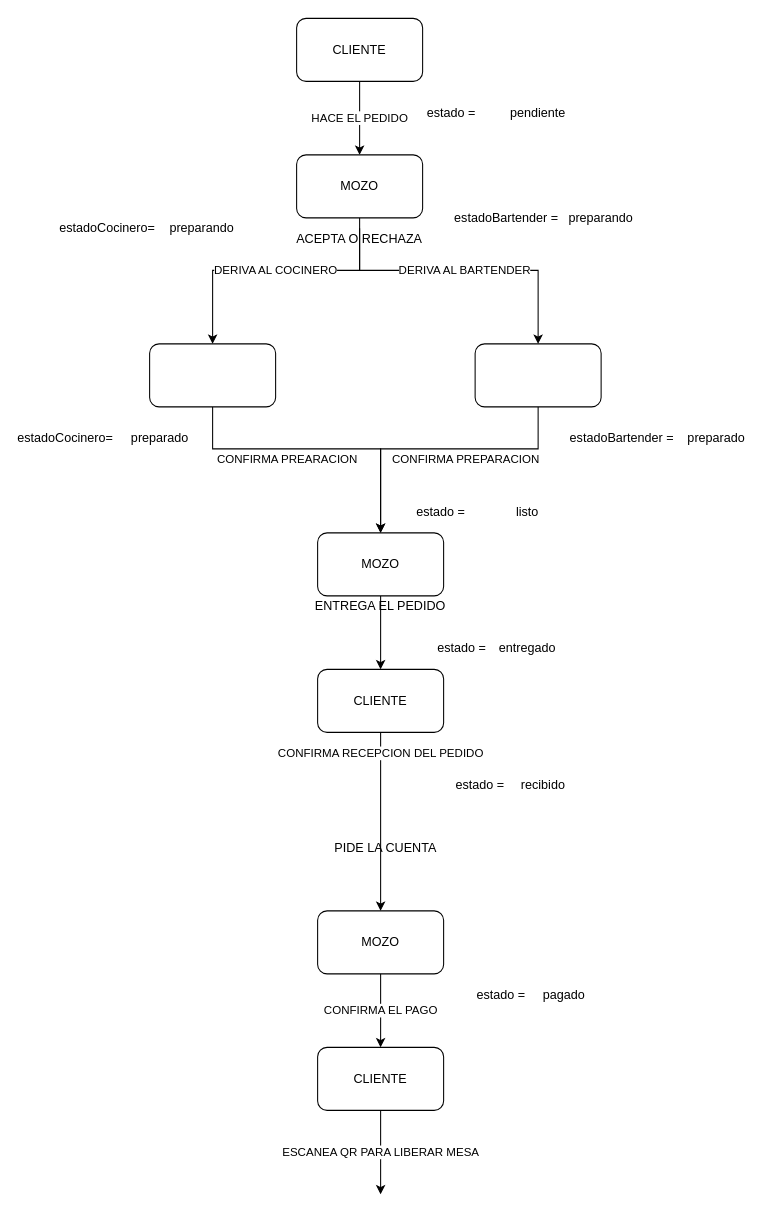
Some shapes in this 763 by 1221 pixel diagram are drawn without their labels. The box of each missing label's shape, as (x1, y1, x2, y2) in pixels:
BARTENDER: (474, 343, 601, 407)
COCINERO: (149, 343, 276, 407)
